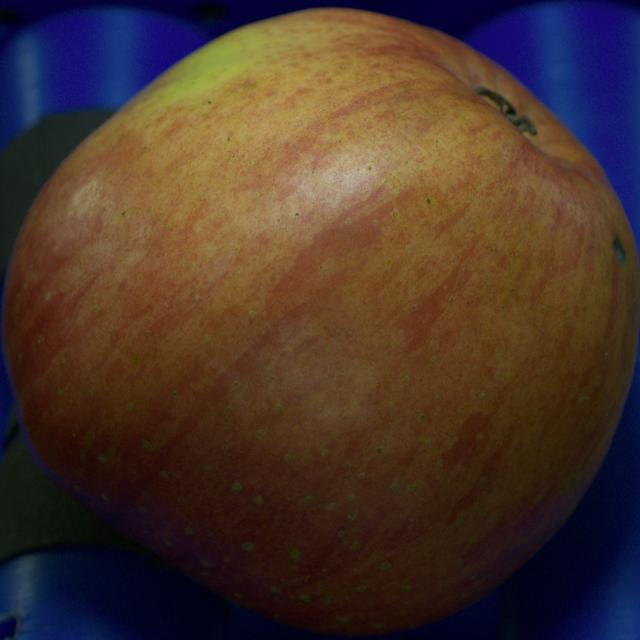apple: (2, 9, 639, 634)
pest: (614, 236, 626, 265)
